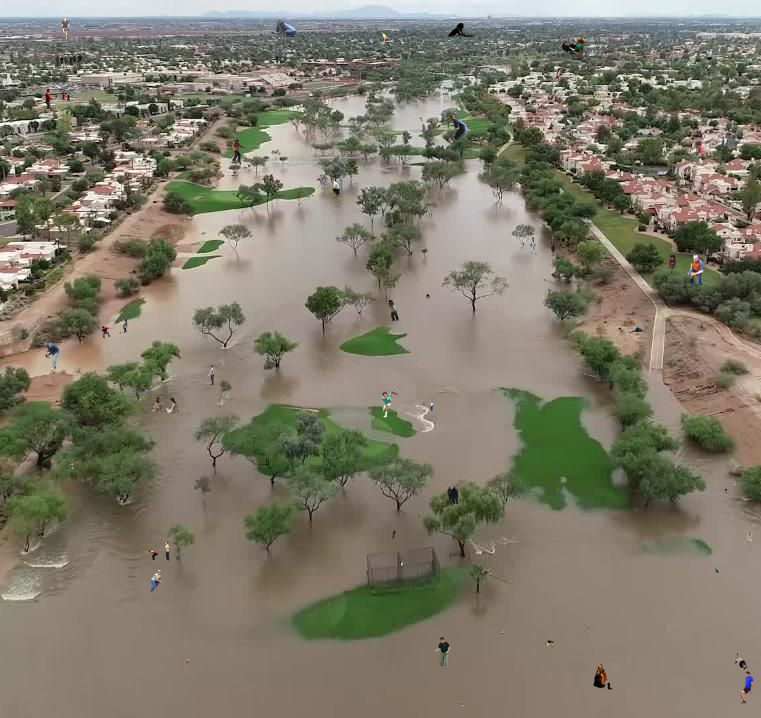Human: (447, 114, 468, 140), (529, 236, 556, 256), (740, 671, 754, 709), (554, 37, 585, 54), (687, 254, 704, 285), (695, 137, 724, 155), (53, 49, 82, 67), (471, 125, 497, 145), (593, 664, 613, 690), (270, 18, 297, 37), (152, 397, 179, 416), (143, 542, 170, 561), (43, 89, 70, 108), (617, 326, 647, 343), (42, 342, 60, 370), (434, 637, 451, 666), (230, 139, 247, 164), (658, 255, 678, 275), (448, 23, 475, 37), (149, 570, 164, 595), (381, 390, 393, 418), (328, 177, 341, 199), (733, 653, 749, 670), (388, 300, 400, 322), (447, 486, 459, 504), (61, 17, 70, 39), (381, 31, 389, 51), (101, 326, 113, 339), (119, 319, 128, 334), (706, 49, 713, 66), (561, 235, 571, 246), (423, 401, 434, 411), (556, 68, 561, 85), (210, 365, 214, 385), (545, 640, 554, 648), (68, 462, 74, 470), (392, 530, 396, 539), (499, 631, 505, 636), (186, 658, 189, 665), (715, 568, 719, 573), (426, 294, 430, 299), (419, 117, 423, 122), (724, 488, 728, 493), (315, 285, 317, 294), (461, 702, 464, 708)
